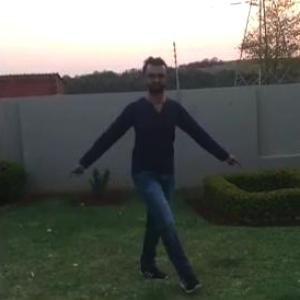land: (93, 66, 215, 244)
